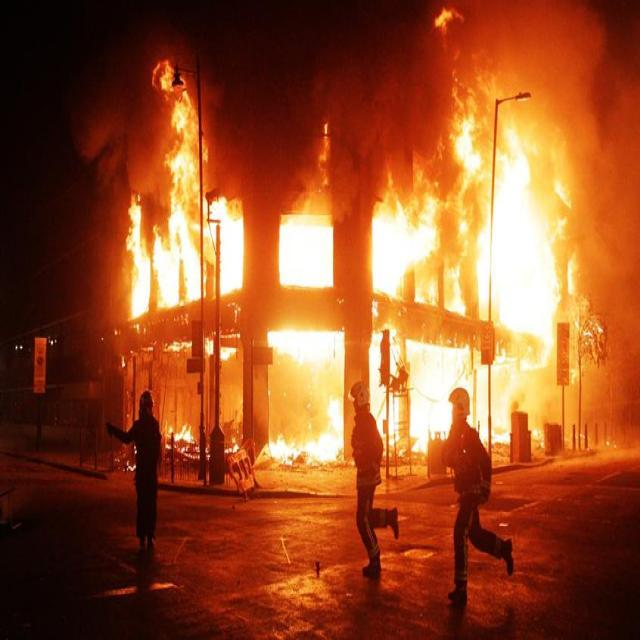Fire: (479, 135, 558, 368), (127, 122, 202, 314), (370, 339, 473, 428), (371, 187, 442, 297), (278, 206, 336, 290), (272, 398, 342, 466), (210, 195, 244, 295), (456, 117, 480, 178)
